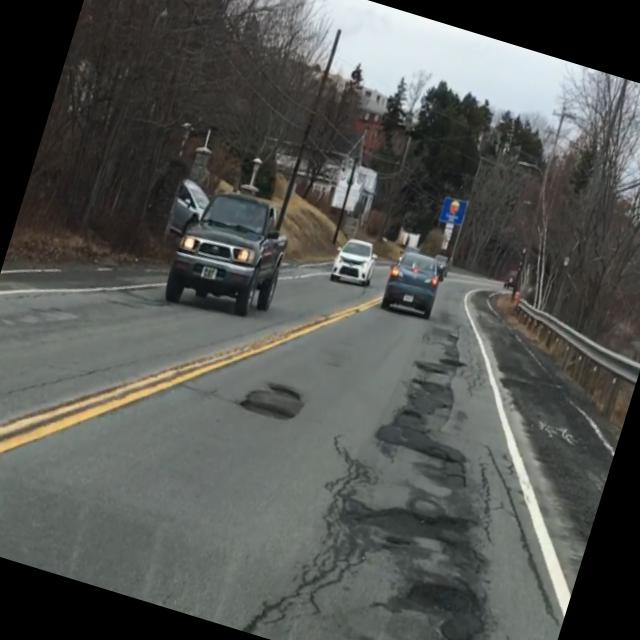Potholes: (229, 354, 326, 454), (428, 344, 482, 392)
